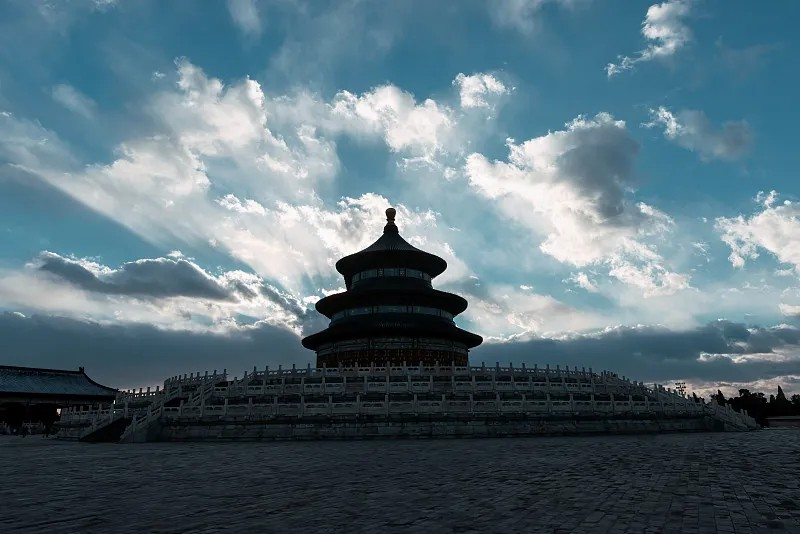Heaven: (301, 206, 483, 368)
